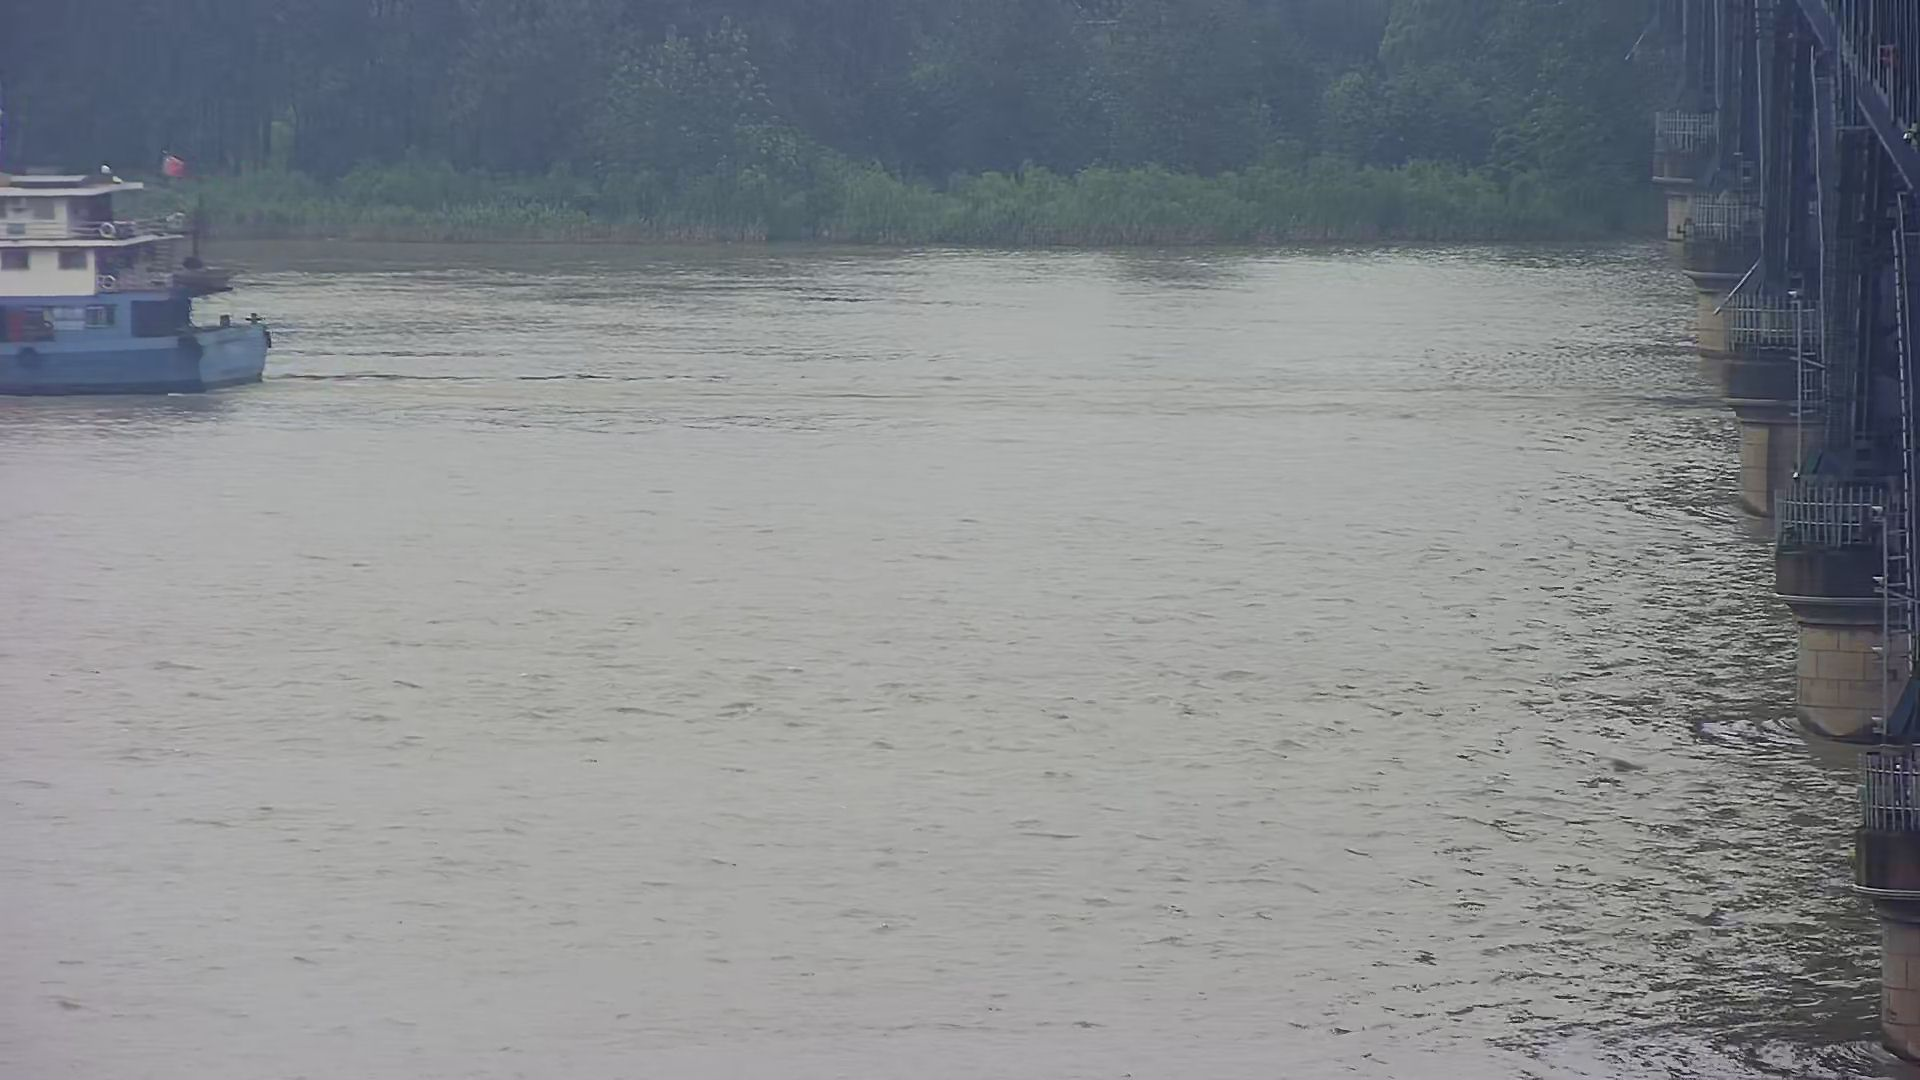bridge: (1648, 1, 1920, 1080)
ship: (1, 141, 295, 400)
